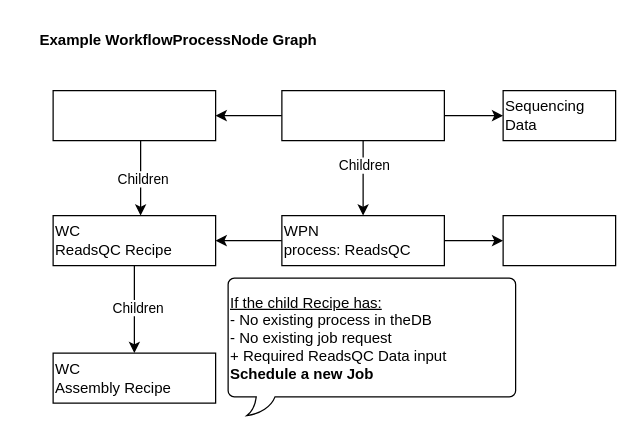
The diagram is 638 pixels wide and 438 high, and some of its shapes have lost their labels. Each missing label, with the box of its shape:
ReadsQC Data: (502, 214, 616, 266)
WC Sequencing Recipe: (52, 89, 216, 141)
WPN process: Sequencing: (281, 89, 444, 141)
